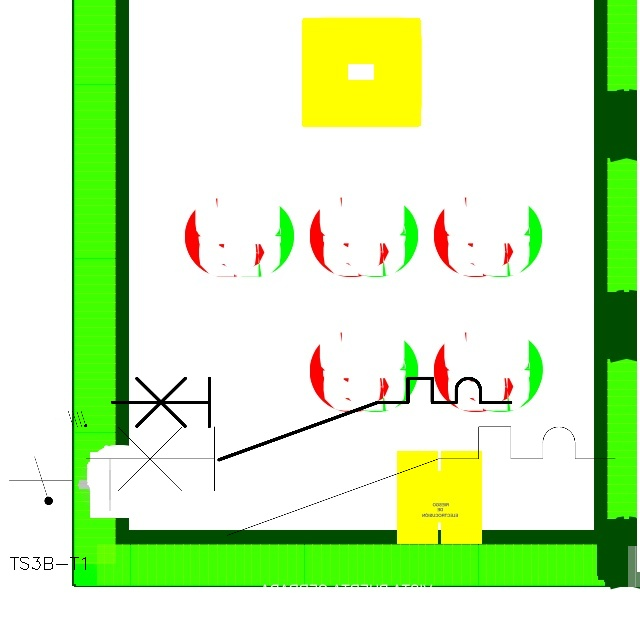interruptor_termomagnetico: (72, 413, 629, 549), (102, 368, 520, 470)
